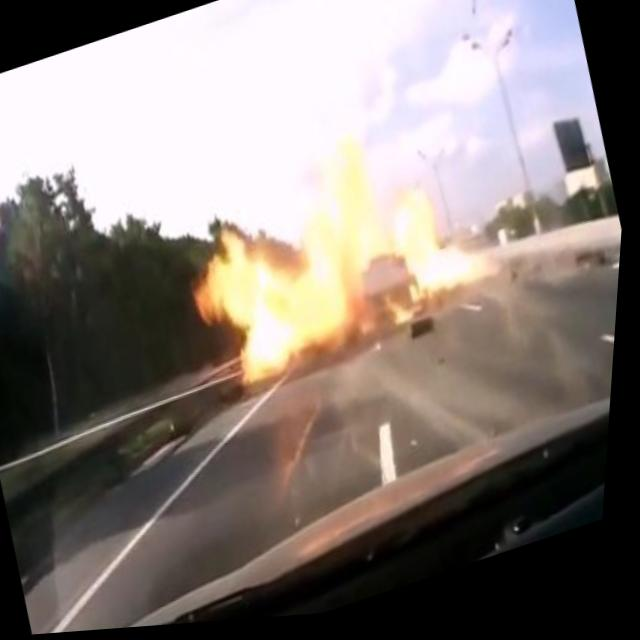fire: (156, 100, 519, 422)
